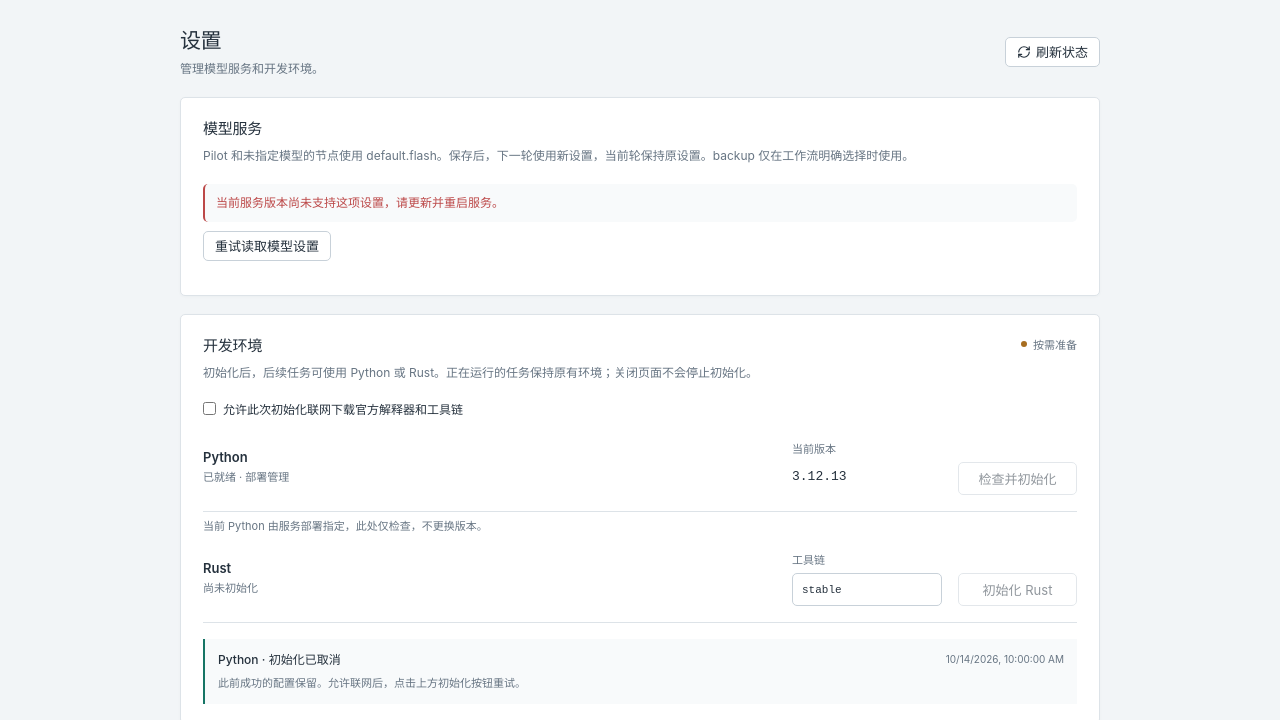
it: Host settings › uses verified bootstrap availability for an older Host with deployment Python: true
Click the checkbox labelled "允许此次初始化联网下载官方解释器和工具链" at (210, 408), box [203,402,216,415]
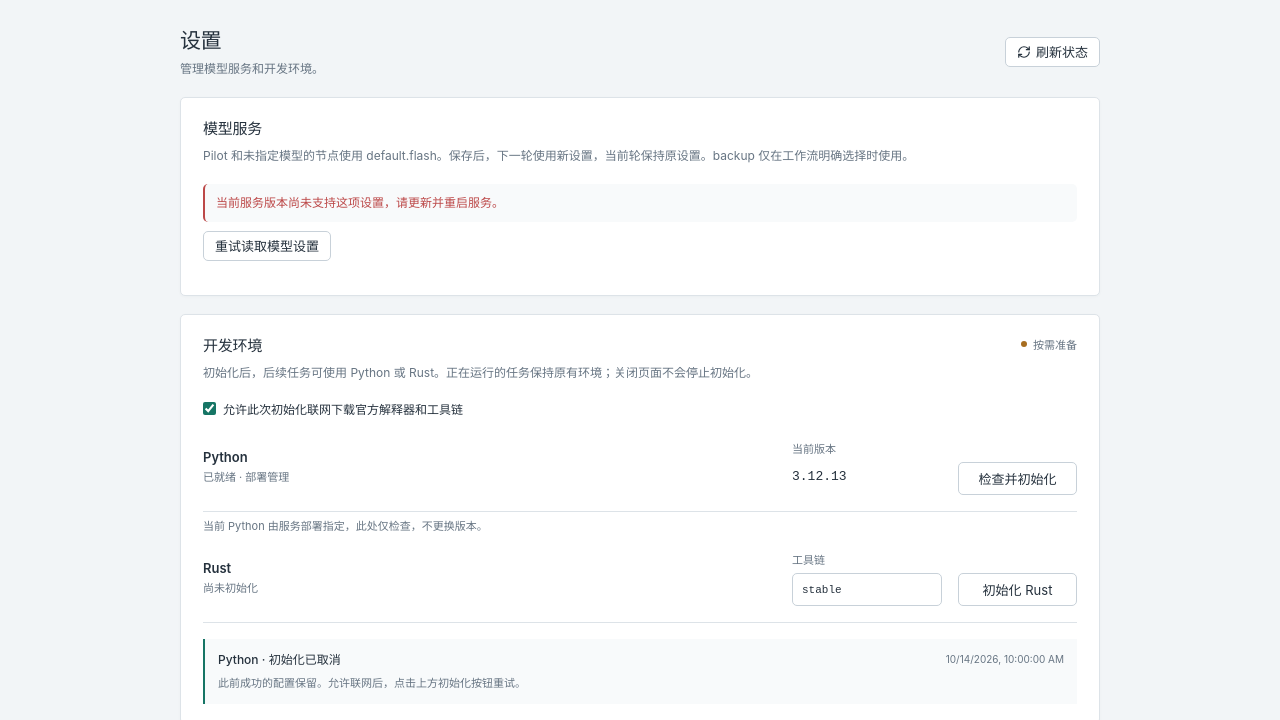
Check: the button "检查并初始化" is enabled, box [958,462,1077,495]
